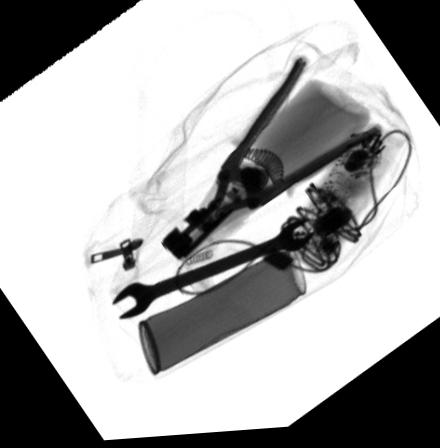Pliers: (156, 59, 380, 265)
Wrench: (110, 222, 313, 321)
